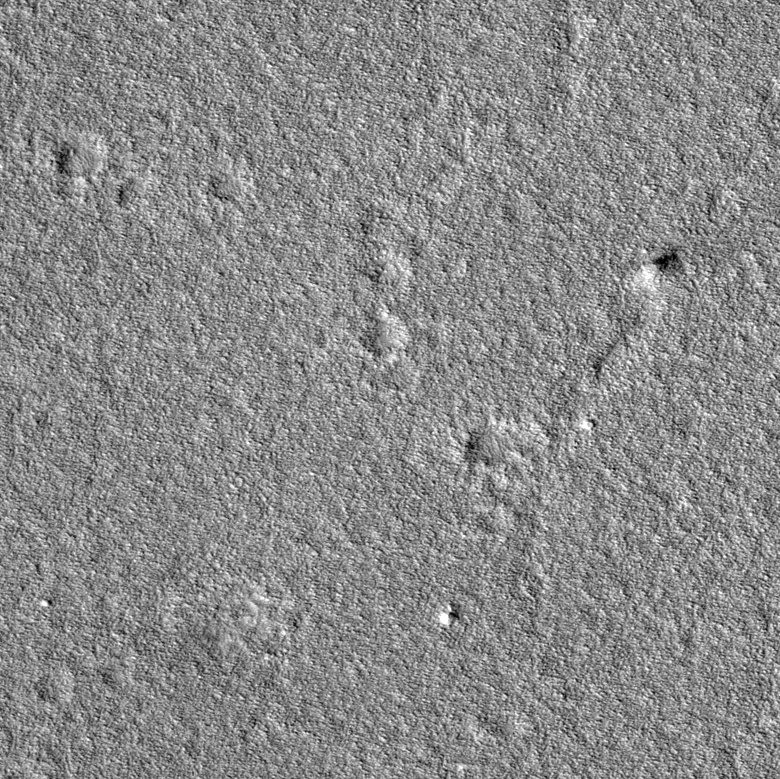dust_devil: (635, 251, 687, 289)
